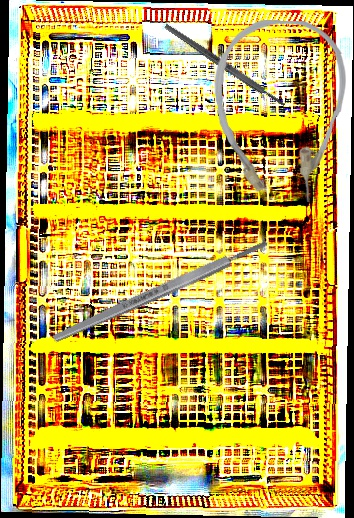Cannula: (211, 19, 348, 203)
Scalpel Handle: (49, 236, 271, 346), (163, 22, 287, 109)
